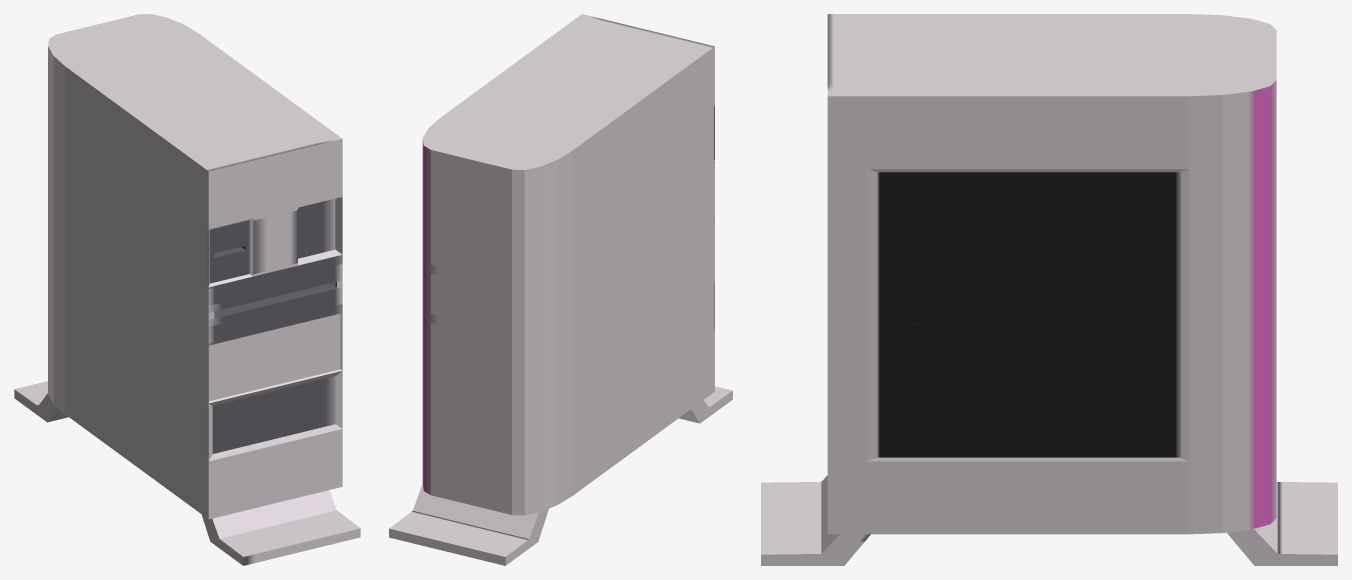
3 renders of one model, left to right at view 1: azimuth 30°, elevation 25°; view 2: azimuth 150°, elevation 25°; view 3: azimuth 270°, elevation 25°, orthographic. The views are drawn at different scales.
Visible parts, largest first — view 1: Cube.001; view 2: Cube.001; view 3: Cube.001.
Part boxes in pixels (x1,y1,x2,y2): Cube.001: [14, 14, 360, 565]; Cube.001: [389, 14, 732, 565]; Cube.001: [761, 14, 1337, 565].
Bounding box in the file's own units: 232 × 624 × 687.
1 material, 1 textured.
